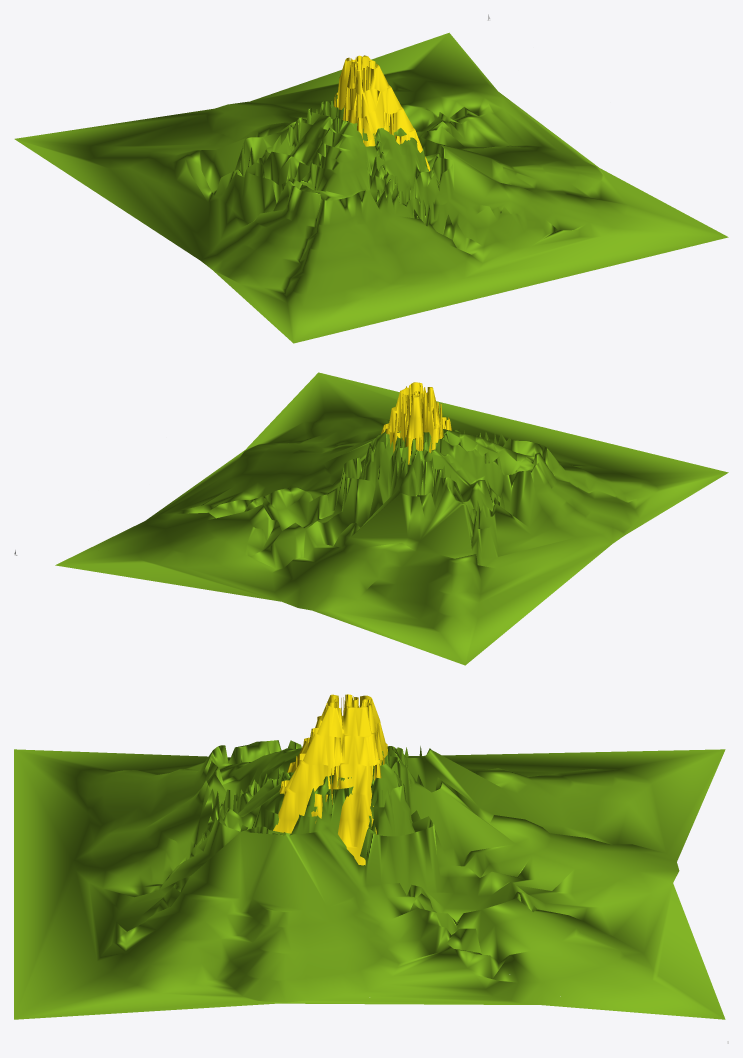
File: gunung.fbx
3 renders of one model, top to bottom at view 1: azimuth 30°, elevation 25°; view 2: azimuth 150°, elevation 25°; view 3: azimuth 270°, elevation 25°, orthographic. The views are drawn at different scales.
Visible parts, largest first — view 1: Group2, Group1; view 2: Group2, Group1; view 3: Group2, Group1.
Part boxes in pixels (x1=…): Group2: x1=14, y1=32, x2=728, y2=343; Group1: x1=334, y1=55, x2=430, y2=171; Group2: x1=55, y1=372, x2=728, y2=665; Group1: x1=381, y1=382, x2=451, y2=464; Group2: x1=14, y1=740, x2=725, y2=1019; Group1: x1=273, y1=694, x2=387, y2=865.
Bounding box in the file's own units: 4542 × 1229 × 4630.
